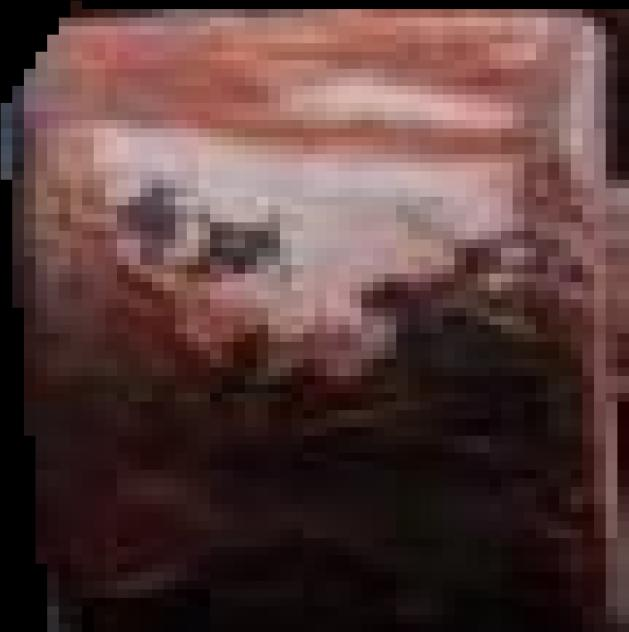Uniform Corrosion: (1, 1, 629, 632)
